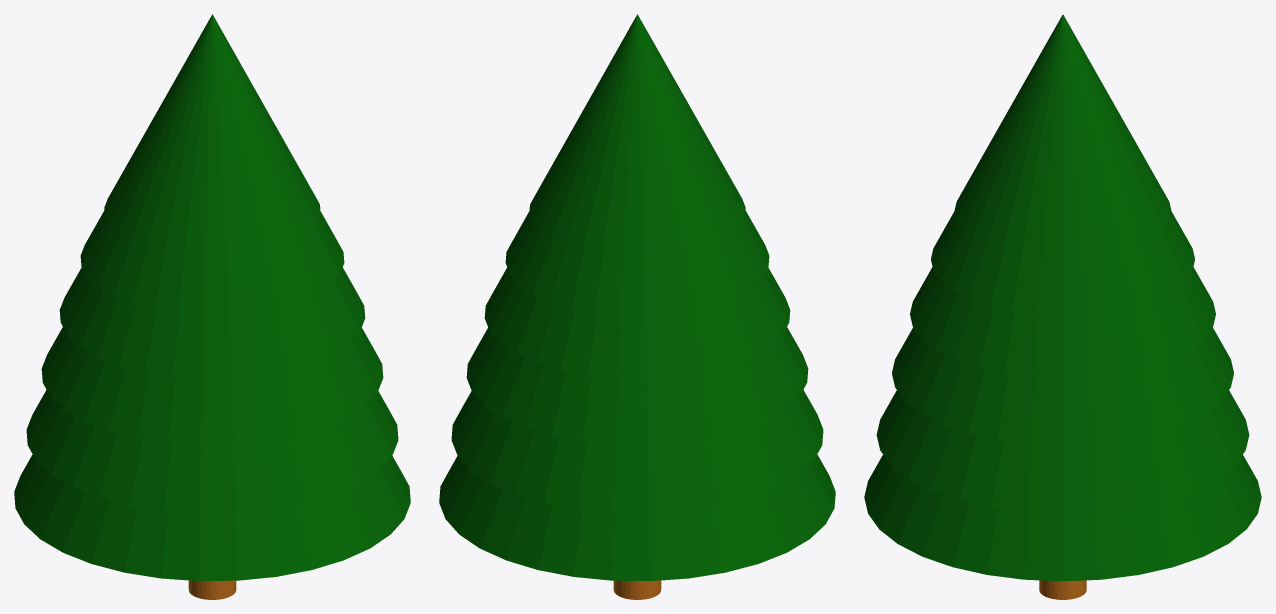
The model's file is Tree_1.fbx.
3 renders of one model, left to right at view 1: azimuth 30°, elevation 25°; view 2: azimuth 150°, elevation 25°; view 3: azimuth 270°, elevation 25°, orthographic.
Visible parts, largest first — view 1: Cone.001; view 2: Cone.001; view 3: Cone.001.
Part boxes in pixels (bbox=[...]): Cone.001: bbox=[14, 14, 410, 599]; Cone.001: bbox=[439, 14, 835, 599]; Cone.001: bbox=[864, 14, 1261, 599].
Size of the model in its own units: 376 by 601 by 376.
